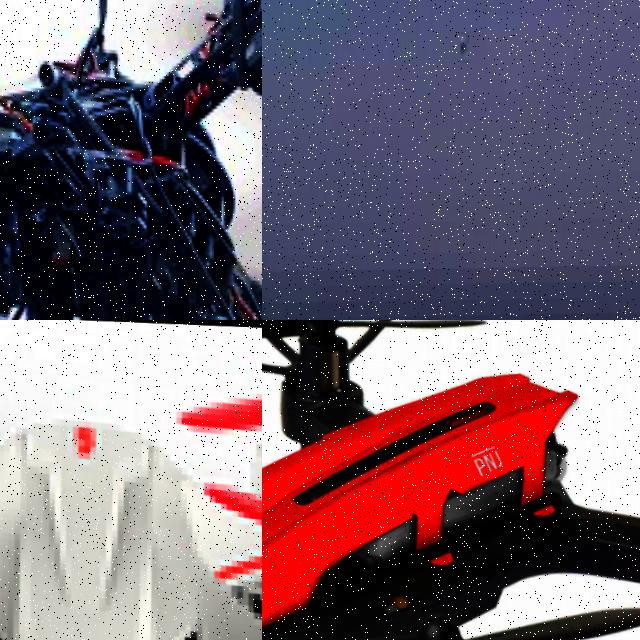drone: (262, 320, 640, 640), (0, 0, 262, 320), (0, 320, 262, 640)
